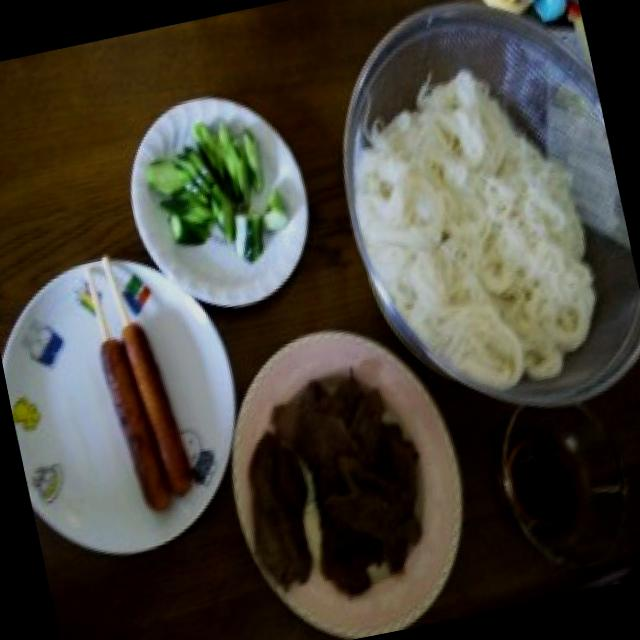Sausage: (76, 324, 207, 526)
